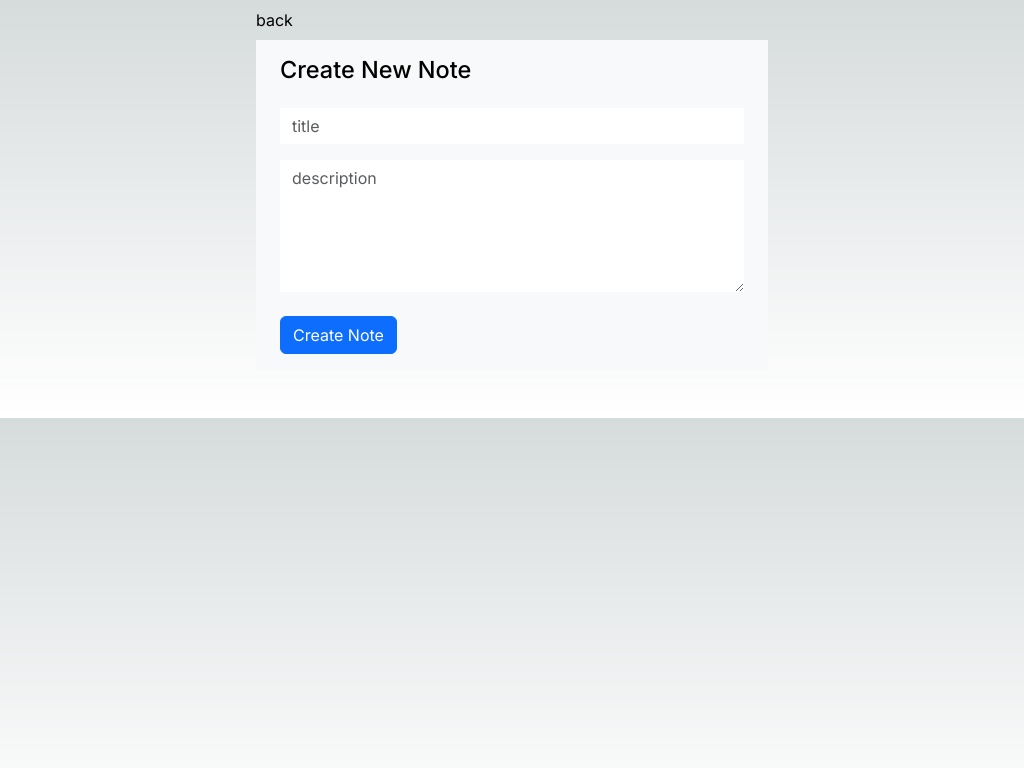
Test case: Page Component › handles form submission with invalid data
Click the button "Create Note" at (338, 335), box [280,316,397,354]
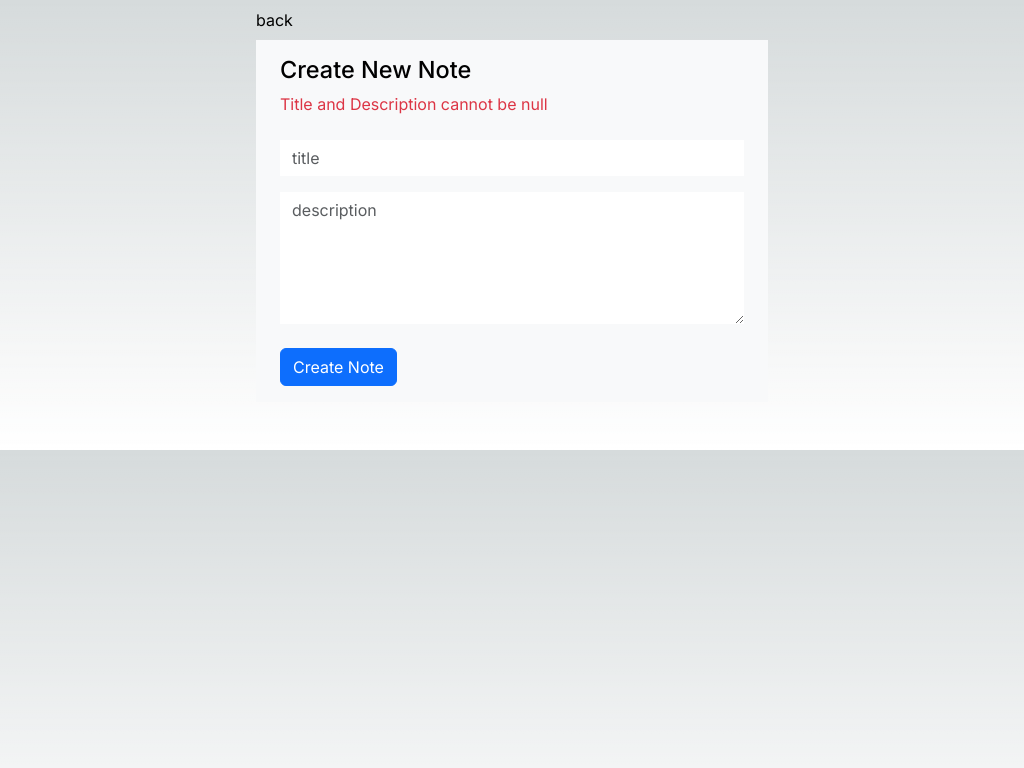
Now the text "Title and Description cannot be null" is shown, box [280,94,548,114]
